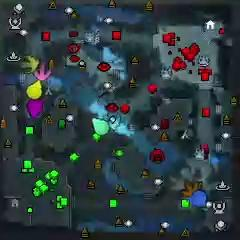p1: (189, 190, 207, 208)
p2: (92, 118, 109, 135)
p3: (27, 98, 44, 118)
p4: (27, 80, 43, 99)
x1: (33, 63, 51, 81)
x2: (20, 55, 39, 74)
x3: (109, 114, 121, 131)
x5: (181, 179, 200, 198)
